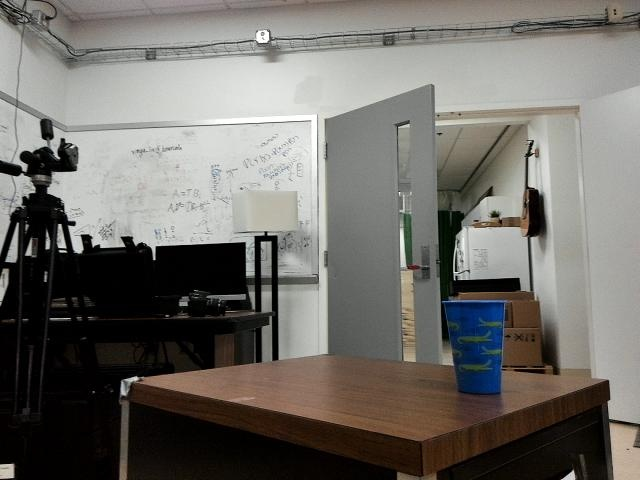water_cup: (443, 299, 509, 398)
